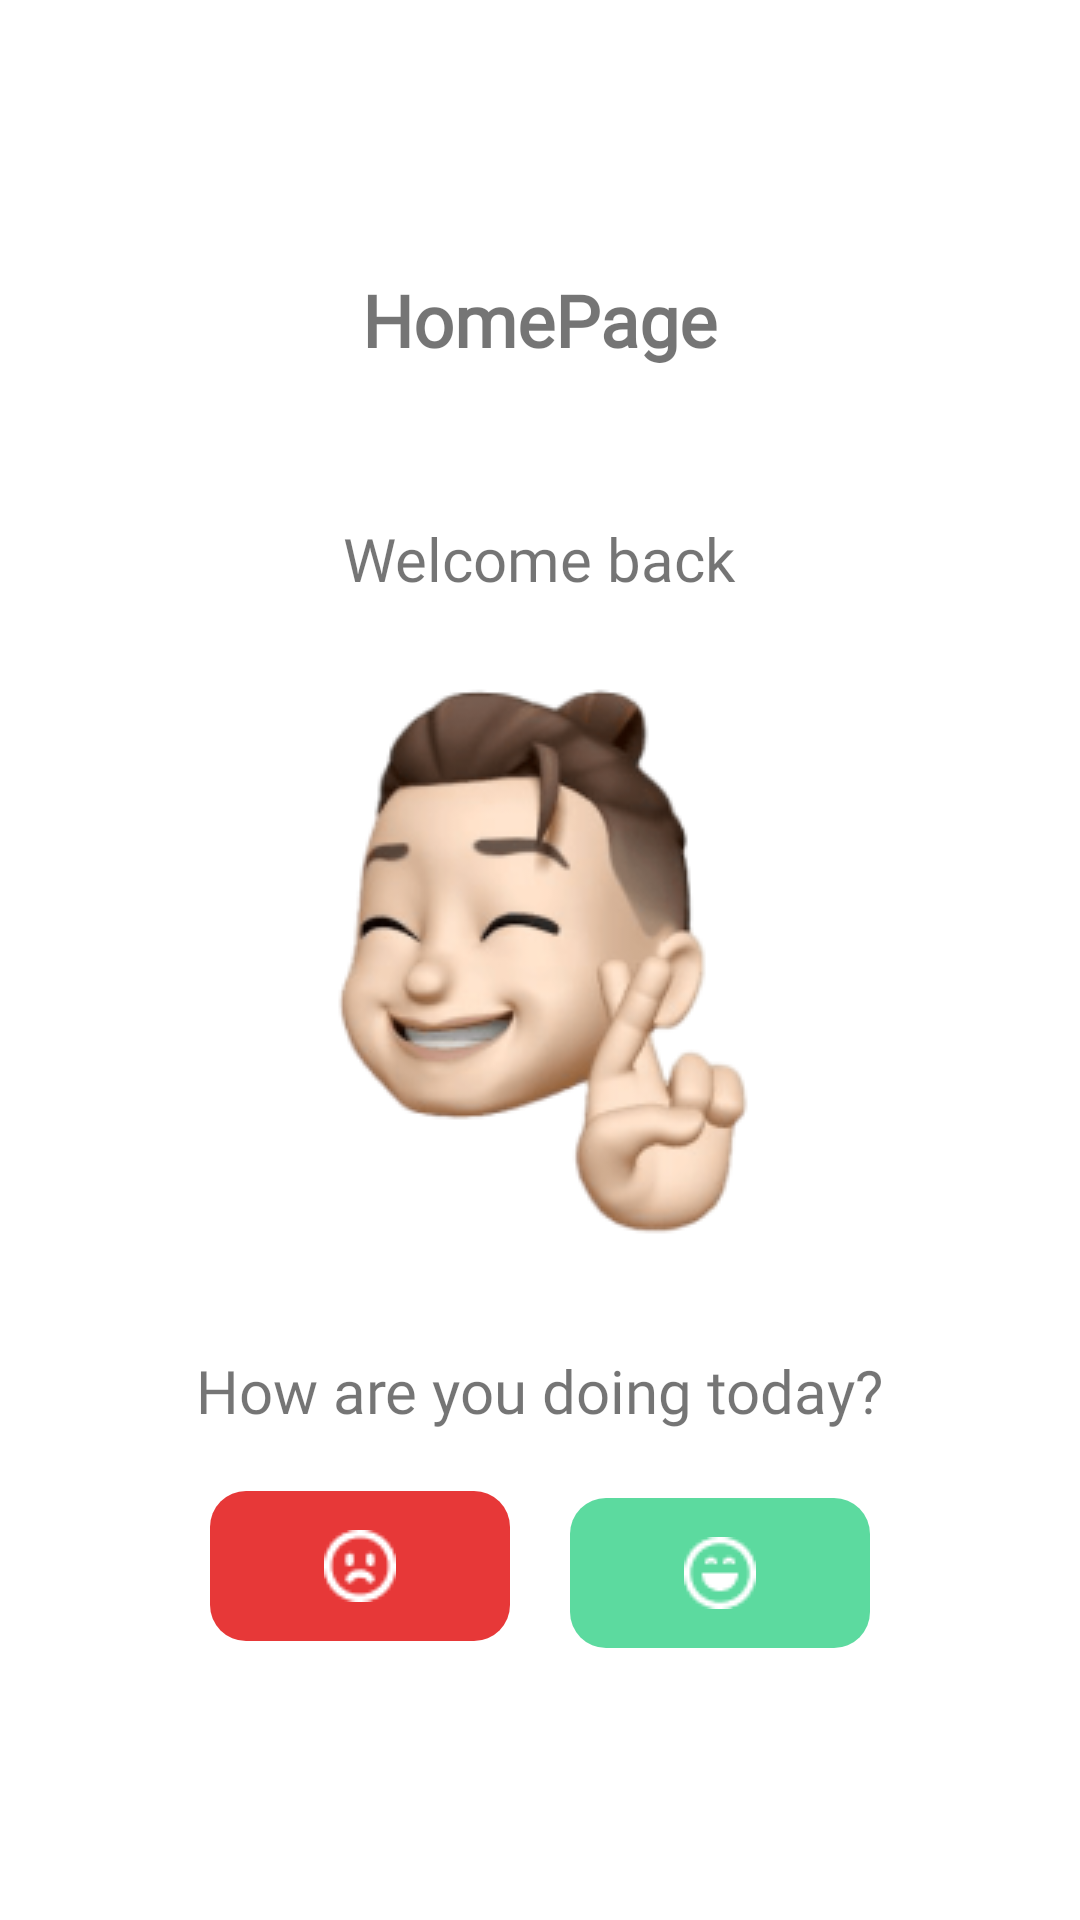

Where icons sit on this 1080 × 1920 app screen, as bbox=(x1, y1, x2, y2):
pajamas smile: bbox=(570, 1498, 870, 1648)
sadge: bbox=(210, 1491, 510, 1641)
